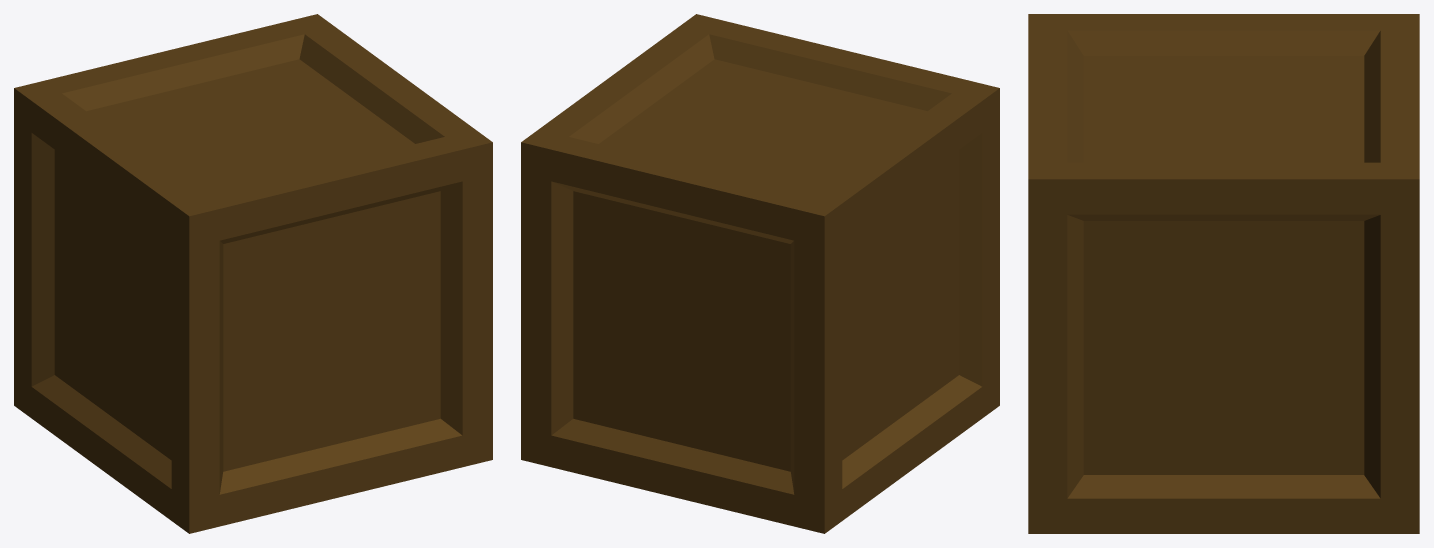
3 views of the same model, side by side, from view 1: azimuth 30°, elevation 25°; view 2: azimuth 150°, elevation 25°; view 3: azimuth 270°, elevation 25° (orthographic). The views are drawn at different scales.
Visible parts, largest first — view 1: Box_1; view 2: Box_1; view 3: Box_1.
Boxes of the visible parts, x1,y1,x2,y2 form: Box_1: (14, 14, 492, 533); Box_1: (521, 14, 999, 533); Box_1: (1028, 14, 1419, 533).
Bounding box in the file's own units: 1544 × 1544 × 1544.
